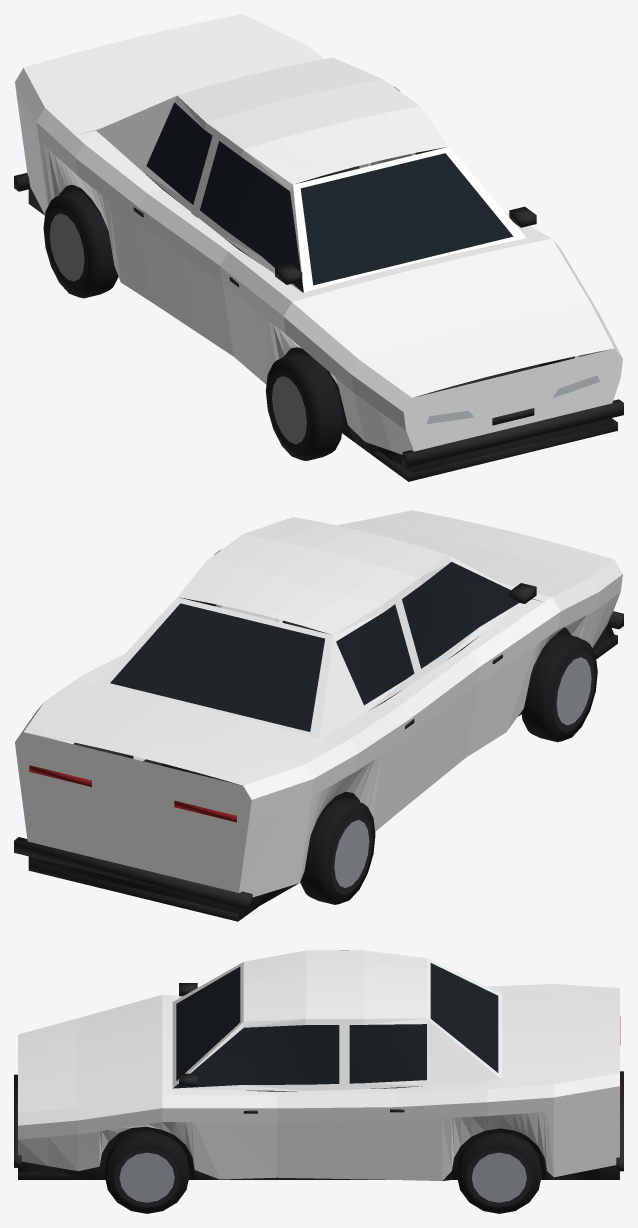
Rendered from halberton_tambor.glb.
3 renders of one model, top to bottom at view 1: azimuth 30°, elevation 25°; view 2: azimuth 150°, elevation 25°; view 3: azimuth 270°, elevation 25°, orthographic. The views are drawn at different scales.
Visible parts, largest first — view 1: Body_Paint, Body_Details, Mount_FrontLeft_Wheel_Details, Mount_RearLeft_Wheel_Details; view 2: Body_Paint, Body_Details, Mount_FrontLeft_Wheel_Details, Mount_RearLeft_Wheel_Details; view 3: Body_Paint, Body_Details, Mount_FrontRight_Wheel_Details, Mount_RearRight_Wheel_Details.
Boxes of the visible parts, x1,y1,x2,y2 form: Body_Paint: (15,14,622,454); Body_Details: (14,102,623,481); Mount_FrontLeft_Wheel_Details: (265,353,342,460); Mount_RearLeft_Wheel_Details: (43,190,118,298); Body_Paint: (15,510,622,897); Body_Details: (14,562,623,921); Mount_FrontLeft_Wheel_Details: (521,633,597,742); Mount_RearLeft_Wheel_Details: (300,797,375,904); Body_Paint: (18,950,619,1180); Body_Details: (14,963,623,1180); Mount_FrontRight_Wheel_Details: (104,1130,189,1213); Mount_RearRight_Wheel_Details: (456,1132,541,1213).
Bounding box in the file's own units: 1.83 × 1.39 × 4.3.
Materials: 2 (1 with a texture image).
